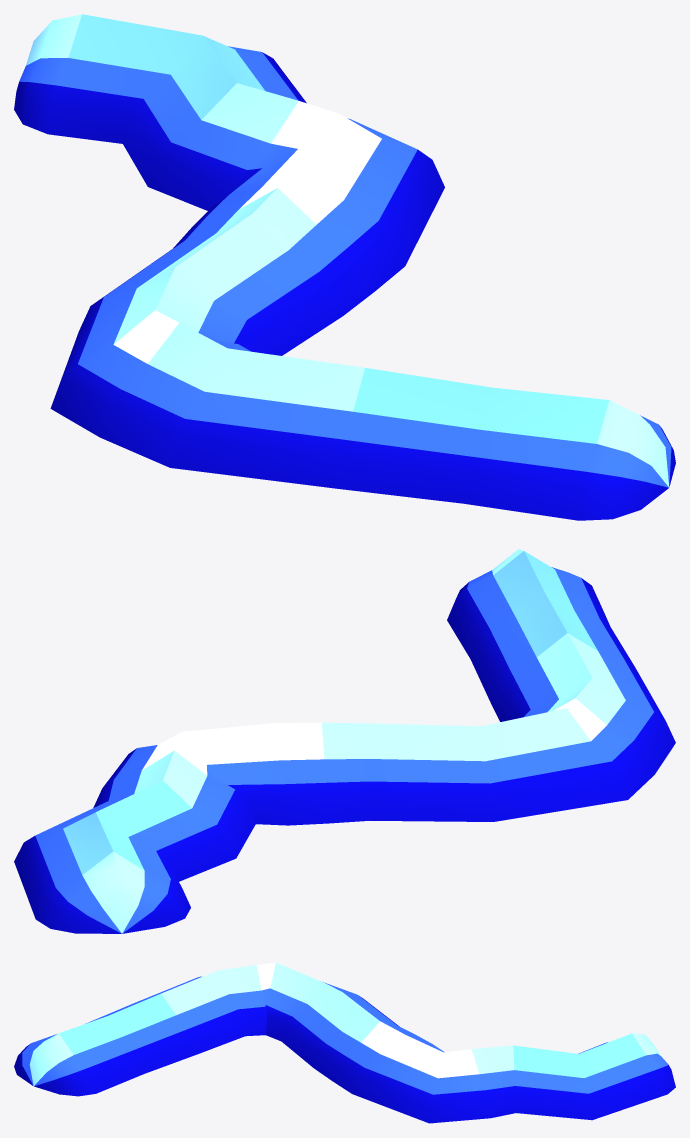
The model's file is shot_lightning_192.glb.
3 renders of one model, top to bottom at view 1: azimuth 30°, elevation 25°; view 2: azimuth 150°, elevation 25°; view 3: azimuth 270°, elevation 25°, orthographic. The views are drawn at different scales.
Parts seen in each view (by area): view 1: shot_lightning_192_0; view 2: shot_lightning_192_0; view 3: shot_lightning_192_0.
Part boxes in pixels (bbox=[...]): shot_lightning_192_0: bbox=[14, 14, 675, 520]; shot_lightning_192_0: bbox=[14, 549, 675, 933]; shot_lightning_192_0: bbox=[14, 962, 675, 1123].
Size of the model in its own units: 8.01 by 1.26 by 16.17.
